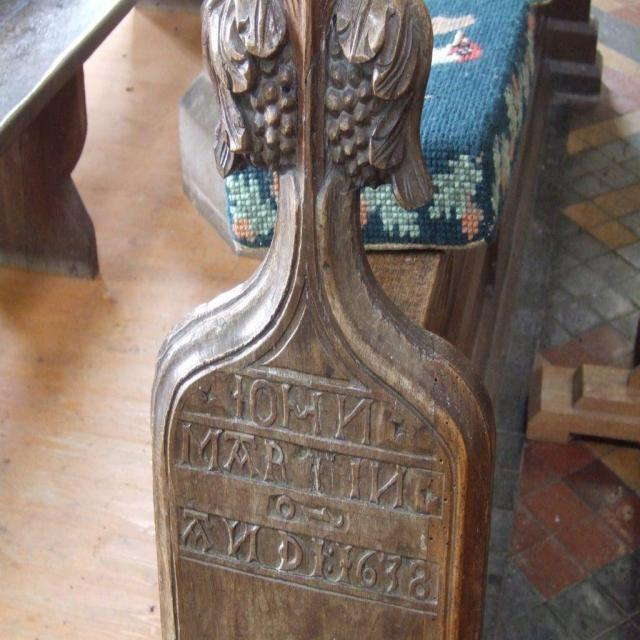table: (0, 6, 171, 332)
